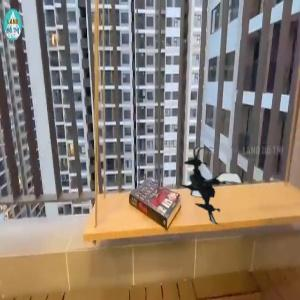drone: (172, 148, 248, 224)
